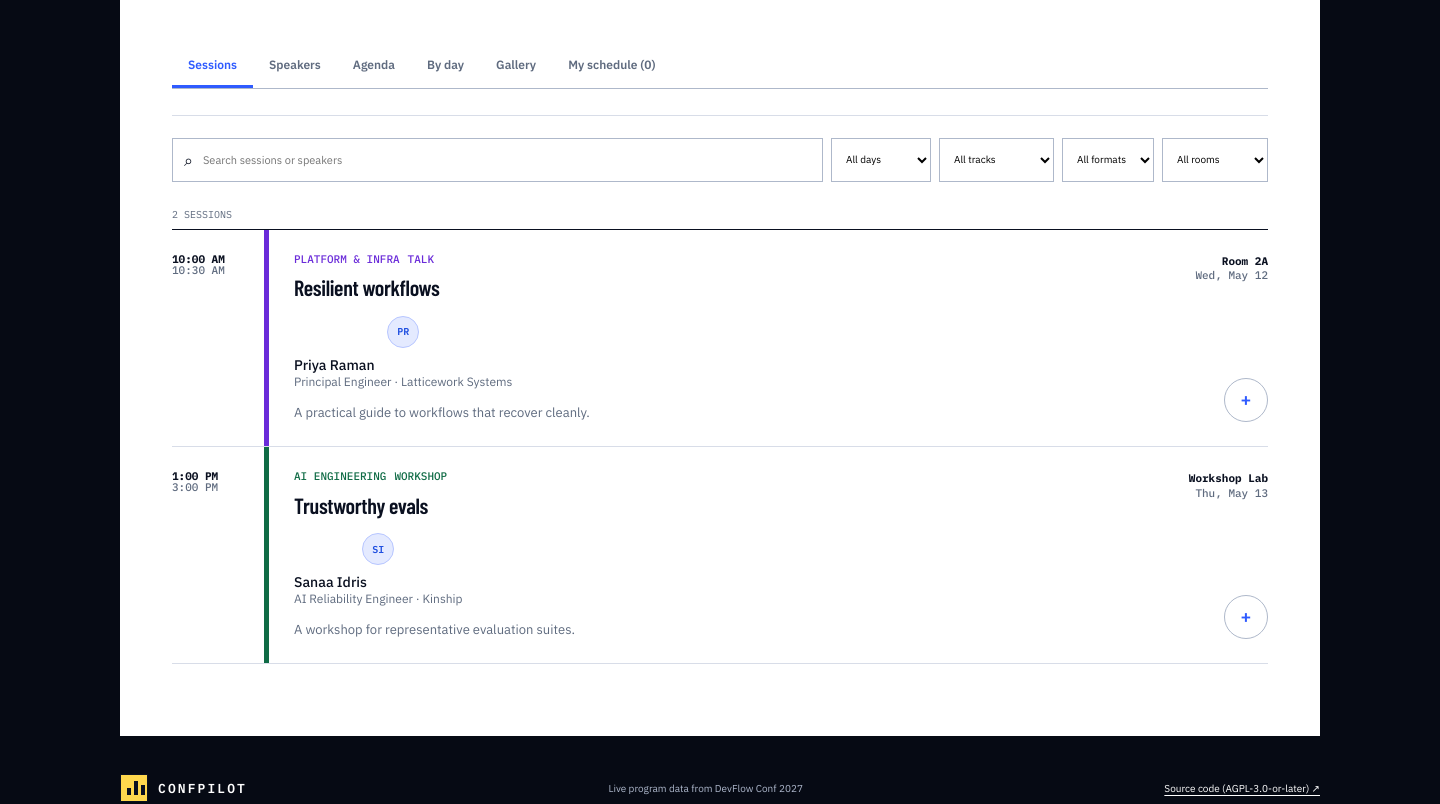
surfaces personal-calendar download failures
(page scrolled)
Click the button named "Add Resilient workflows to my schedule" at (1246, 400), box [1224,378,1268,422]
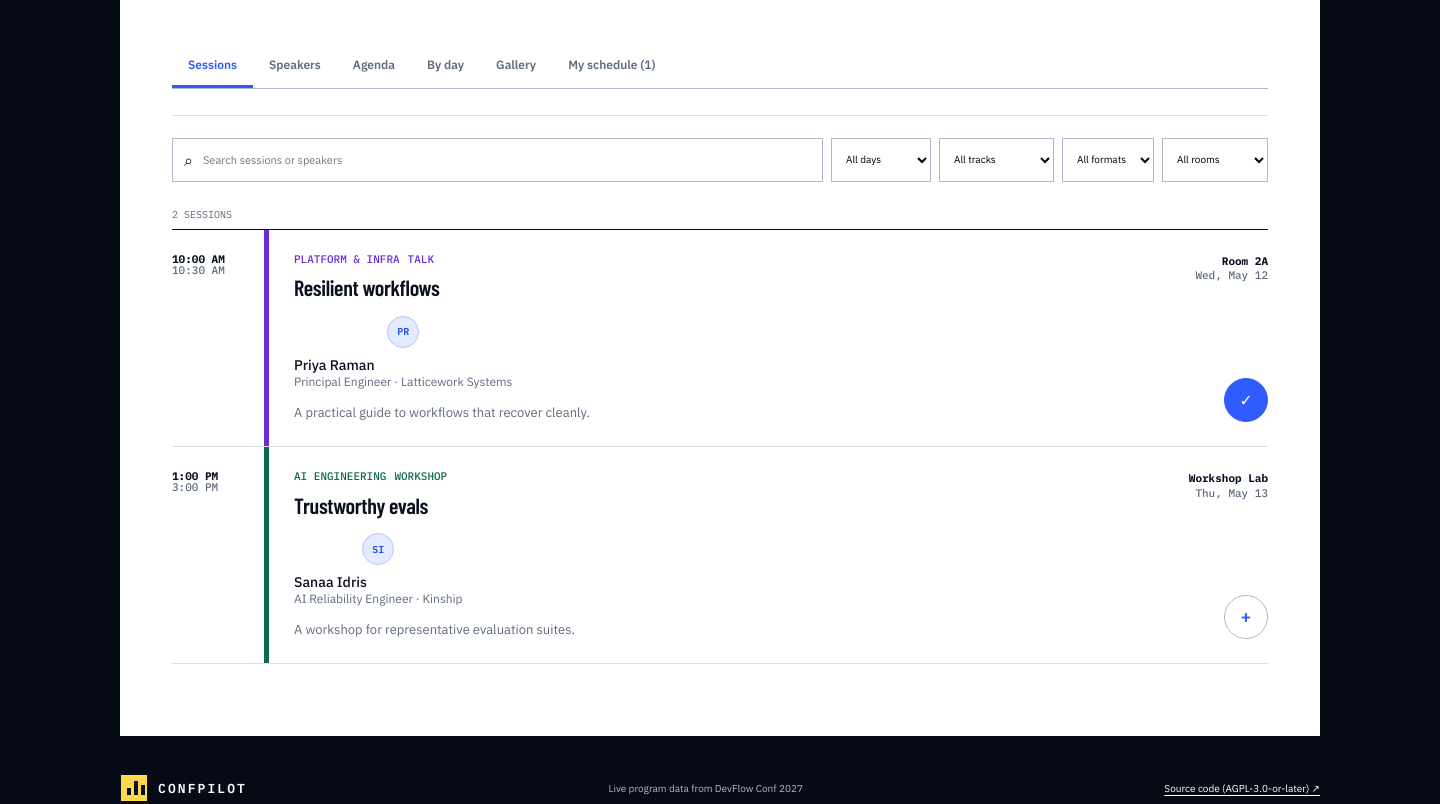
Click the button "My schedule (1)" at (612, 66), box [552,44,672,88]
(page scrolled)
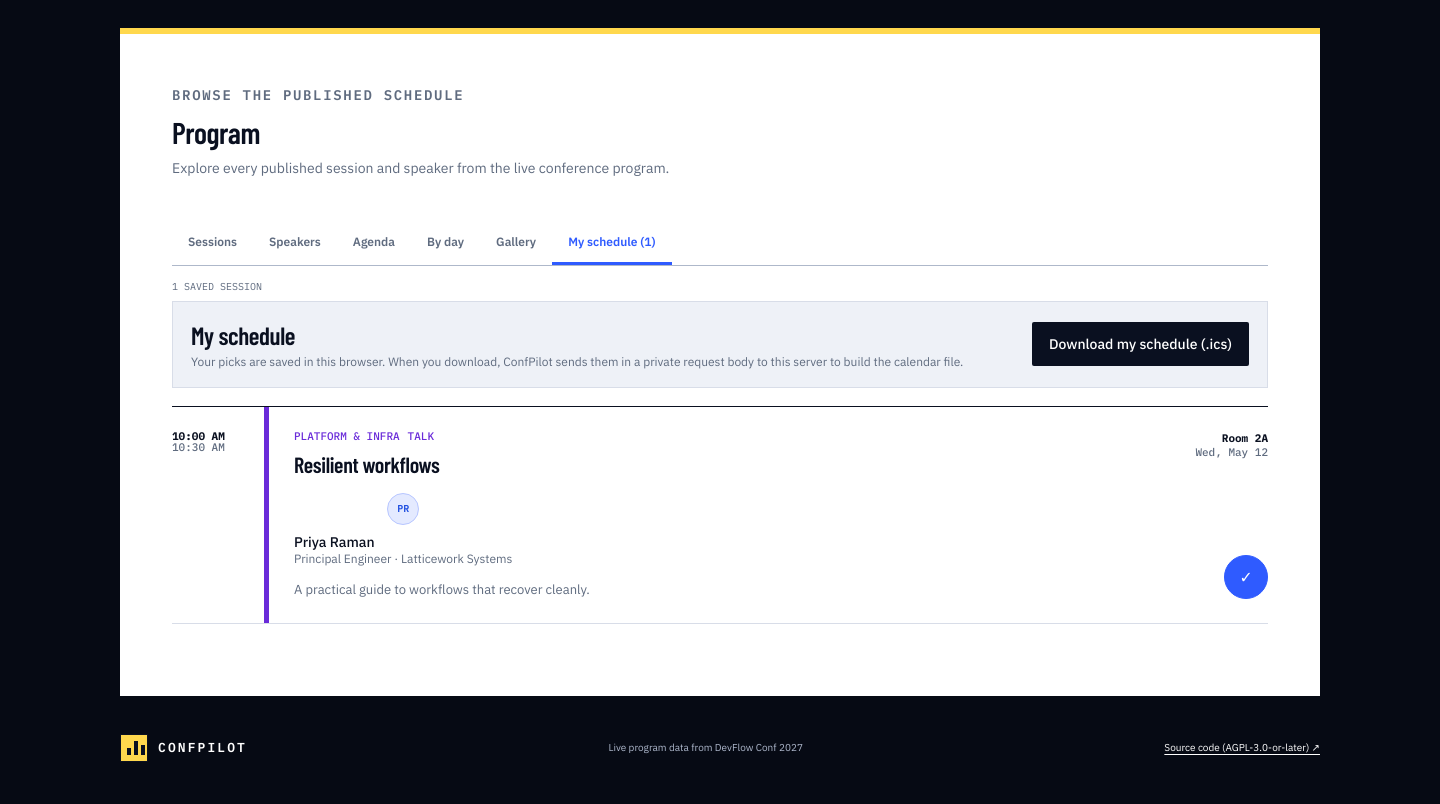
Click the button "Download my schedule (.ics)" at (1140, 344), box [1032,322,1249,366]
(page scrolled)
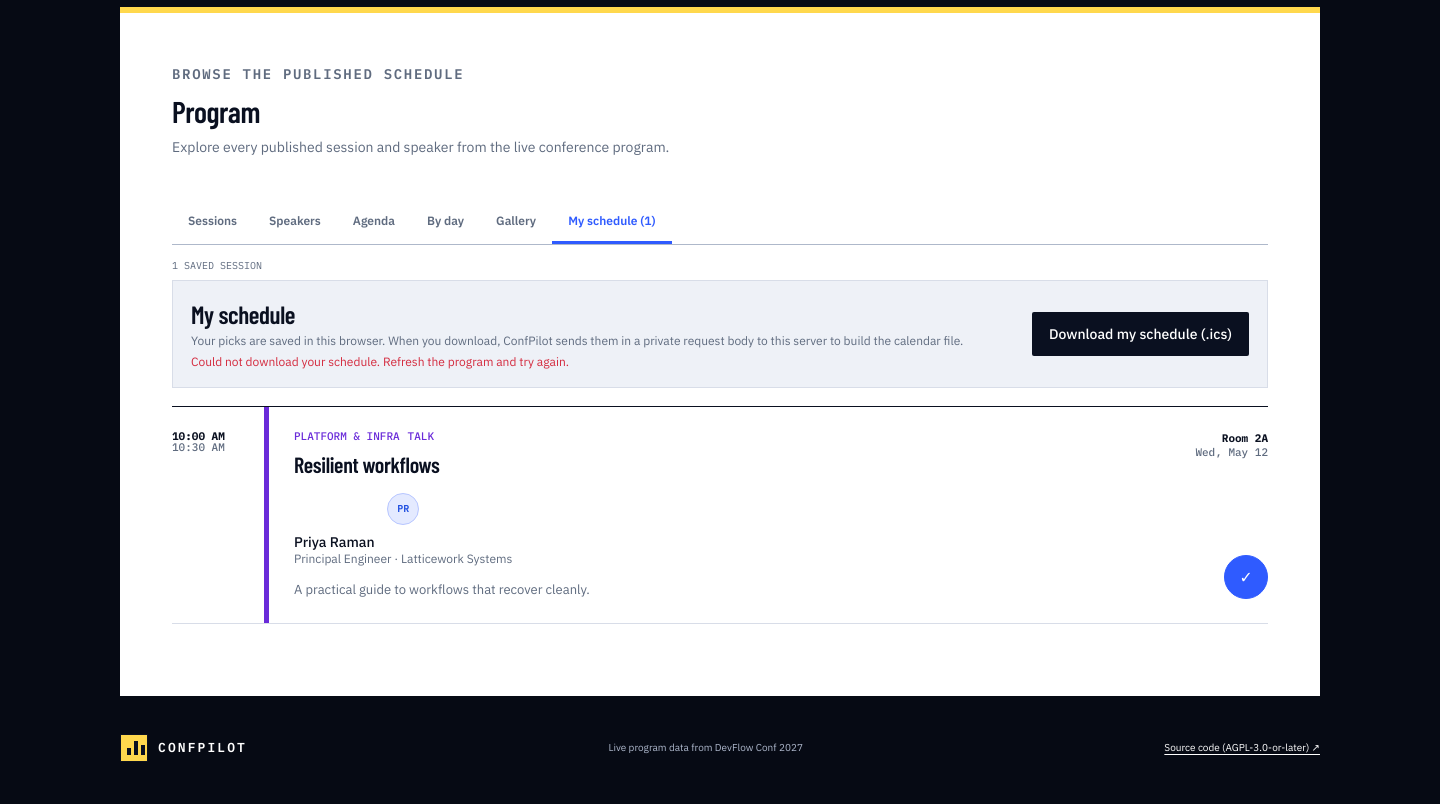
Check: the message shows "Could not download your schedule", box [191,354,569,368]
